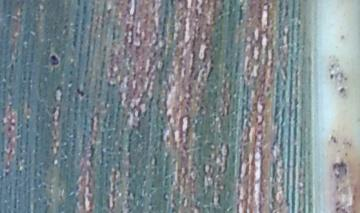tarspot: (47, 50, 62, 68), (75, 87, 85, 98)
